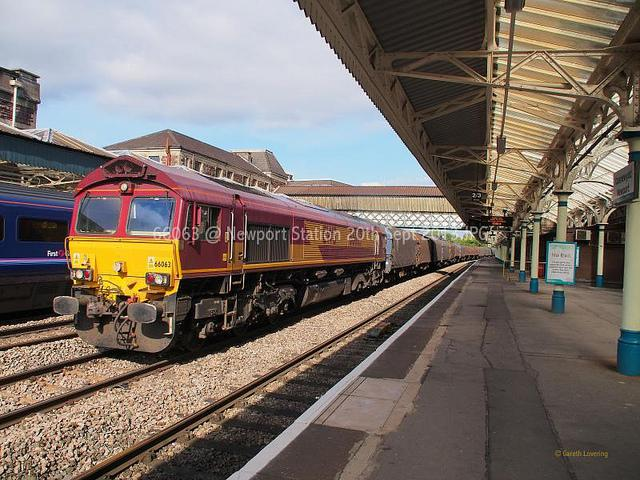Train: (54, 156, 486, 365), (1, 184, 76, 312)
